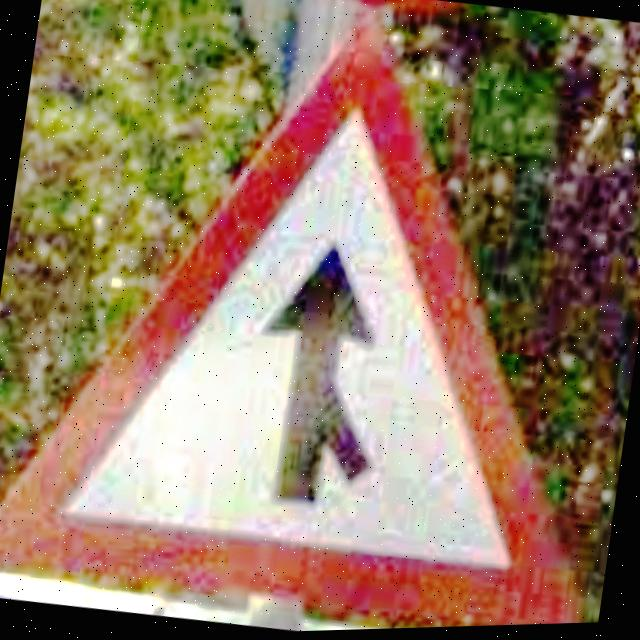rightmerge: (0, 10, 581, 629)
